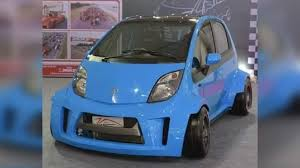Nano: (50, 13, 252, 161)
